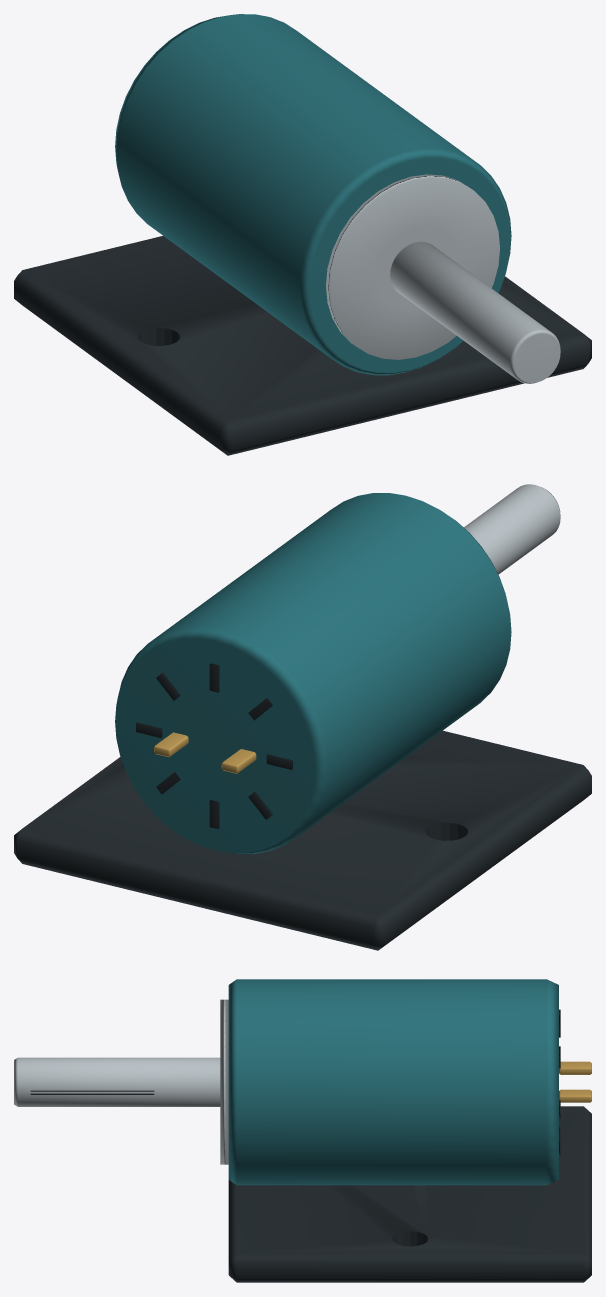
The model's file is VLAB_motor.fbx.
3 views of the same model, one above another, from view 1: azimuth 30°, elevation 25°; view 2: azimuth 150°, elevation 25°; view 3: azimuth 270°, elevation 25° (orthographic). The views are drawn at different scales.
Visible parts, largest first — view 1: VLAB_motor_Body_VIS, VLAB_motor_Mount_VIS, VLAB_motor_Shaft_VIS; view 2: VLAB_motor_Body_VIS, VLAB_motor_Mount_VIS, VLAB_motor_Shaft_VIS; view 3: VLAB_motor_Body_VIS, VLAB_motor_Mount_VIS, VLAB_motor_Shaft_VIS.
Boxes of the visible parts, bbox=[...] form: VLAB_motor_Body_VIS: bbox=[115, 14, 511, 375]; VLAB_motor_Mount_VIS: bbox=[14, 236, 591, 455]; VLAB_motor_Shaft_VIS: bbox=[390, 241, 560, 383]; VLAB_motor_Body_VIS: bbox=[115, 493, 511, 853]; VLAB_motor_Mount_VIS: bbox=[14, 730, 591, 950]; VLAB_motor_Shaft_VIS: bbox=[464, 484, 560, 574]; VLAB_motor_Body_VIS: bbox=[220, 979, 591, 1185]; VLAB_motor_Mount_VIS: bbox=[228, 1106, 591, 1282]; VLAB_motor_Shaft_VIS: bbox=[14, 1057, 220, 1106].
Bounding box in the file's own units: 0.044 × 0.0295 × 0.07.
